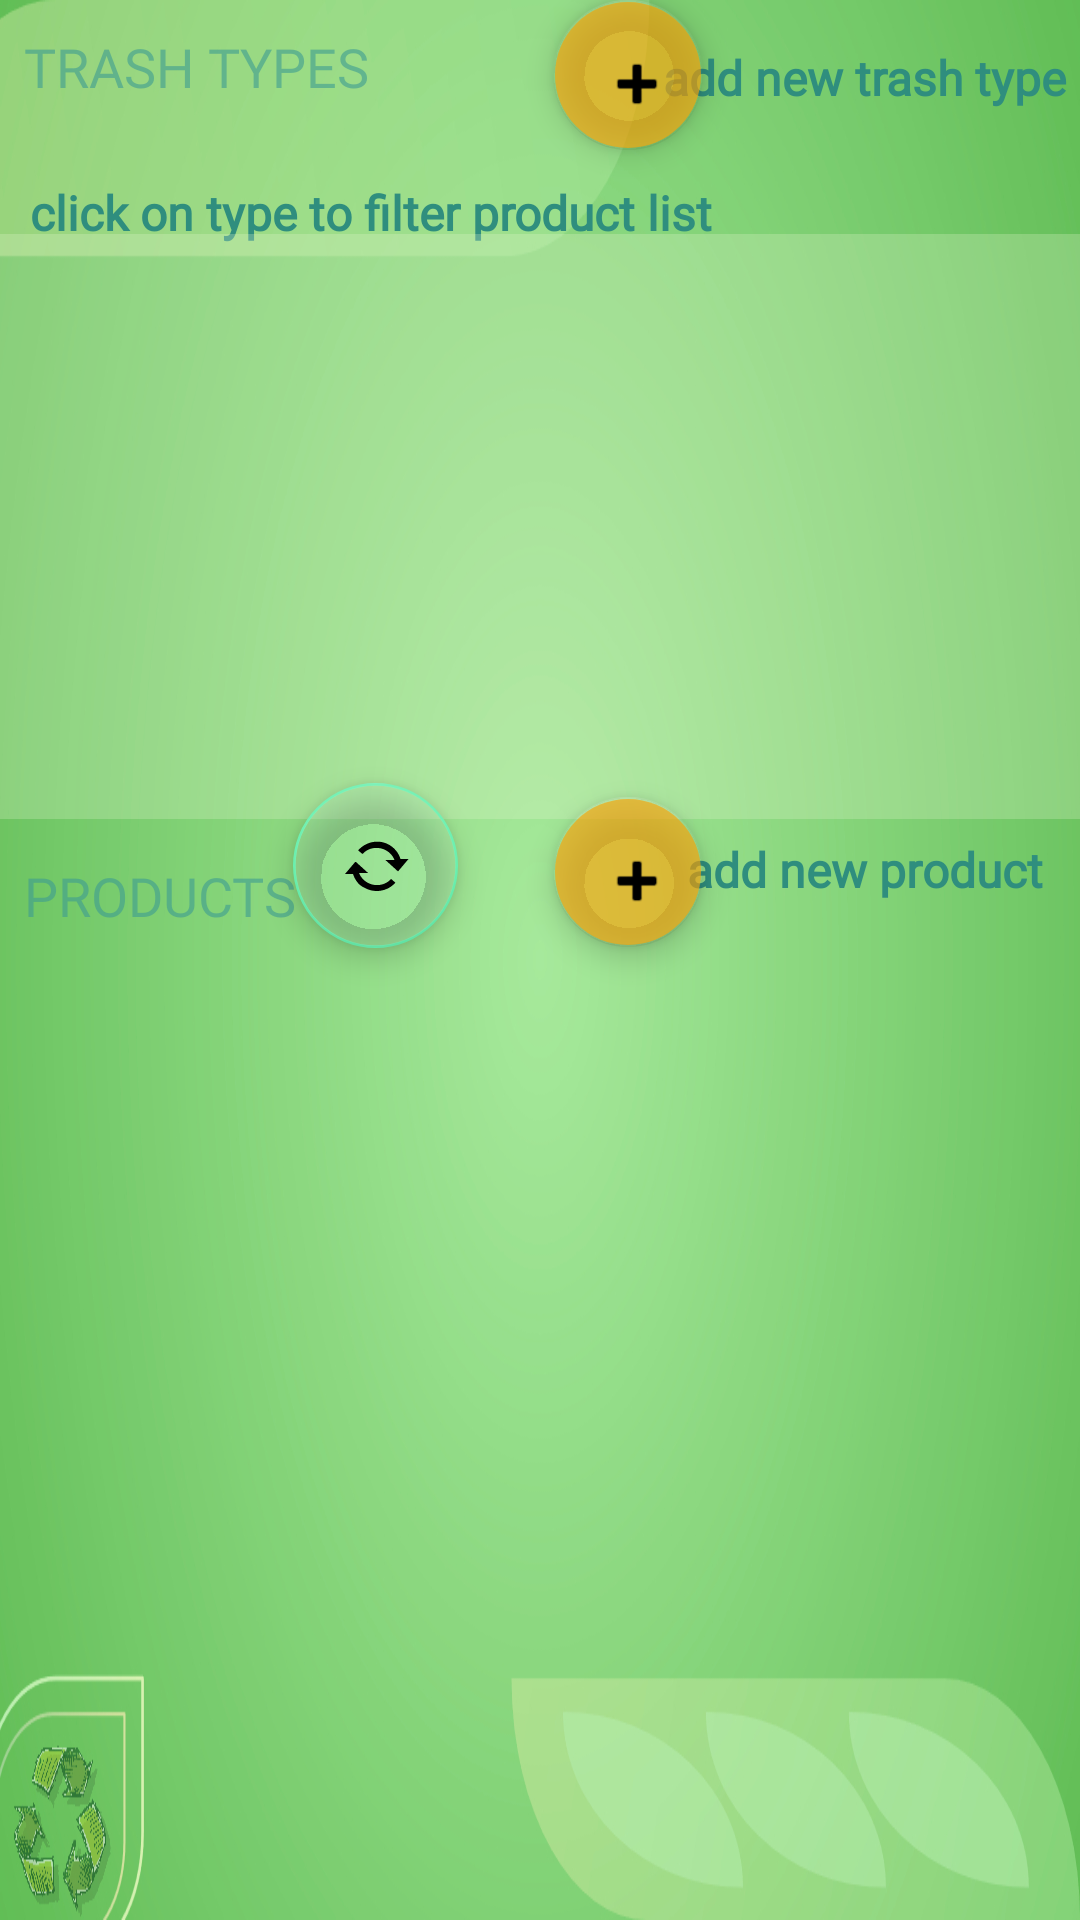

Named icons in this screenshot (1080×1920) and their bounding boxes, [x1=x1, y1=y1, x2=x2, y2=y2]:
sync noanim: [x1=293, y1=783, x2=458, y2=948]
